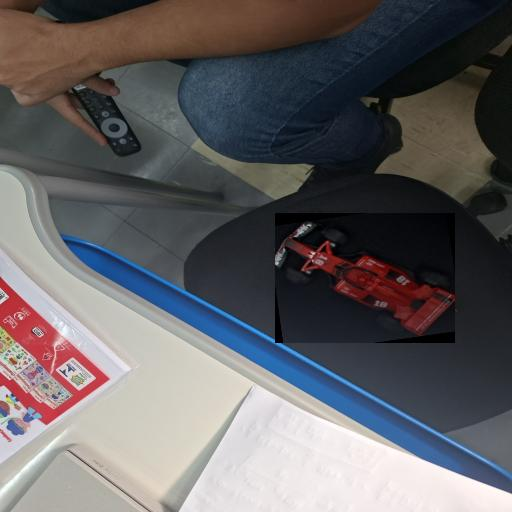carro: (275, 214, 454, 342)
